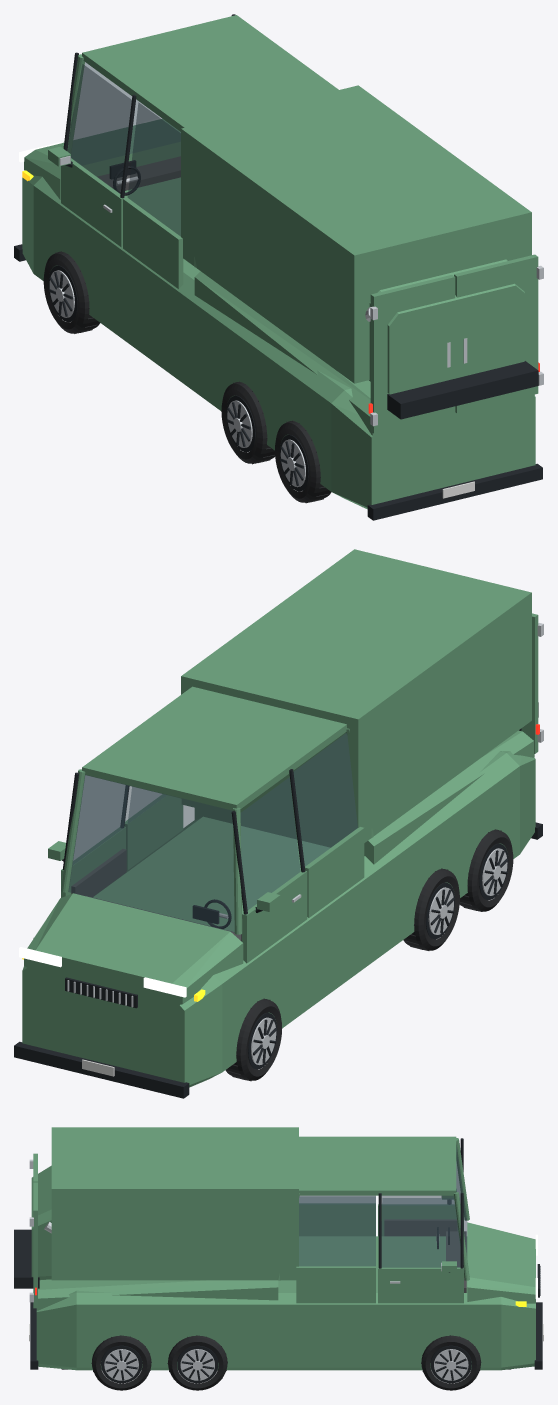
File: garbage_truck.glb
3 renders of one model, top to bottom at view 1: azimuth 30°, elevation 25°; view 2: azimuth 150°, elevation 25°; view 3: azimuth 270°, elevation 25°, orthographic. The views are drawn at different scales.
Visible parts, largest first — view 1: Body, Door_FL, Door_Rear_L, Door_Rear_R, Wheel_FL, Wheel_RL, Wheel_ML; view 2: Body, Door_FL, Door_FR, Wheel_FL, Wheel_RL, Wheel_ML, Door_Rear_L; view 3: Body, Door_FR, Door_FL, Wheel_RR, Wheel_FR, Wheel_MR, Door_Rear_R.
Part boxes in pixels (box(x1,y1,x2,y2)): Body: box(14, 15, 542, 520); Door_FL: box(48, 52, 136, 247); Door_Rear_L: box(370, 275, 455, 433); Door_Rear_R: box(454, 254, 543, 413); Wheel_FL: box(43, 251, 99, 333); Wheel_RL: box(275, 420, 331, 503); Wheel_ML: box(221, 381, 274, 464); Body: box(14, 549, 542, 1098); Door_FL: box(231, 769, 307, 963); Door_FR: box(48, 772, 129, 897); Wheel_FL: box(225, 998, 282, 1081); Wheel_RL: box(459, 829, 513, 911); Wheel_ML: box(403, 868, 459, 950); Door_Rear_L: box(521, 613, 543, 753); Body: box(14, 1127, 543, 1370); Door_FR: box(378, 1193, 463, 1303); Door_FL: box(378, 1138, 463, 1236); Wheel_RR: box(91, 1335, 151, 1390); Wheel_FR: box(421, 1335, 481, 1390); Wheel_MR: box(167, 1335, 227, 1390); Door_Rear_R: box(29, 1182, 37, 1308).
Size of what is drawn, in the model's own units: 3 by 3.61 by 8.7.
